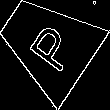P_NW: (18, 14, 77, 73)
